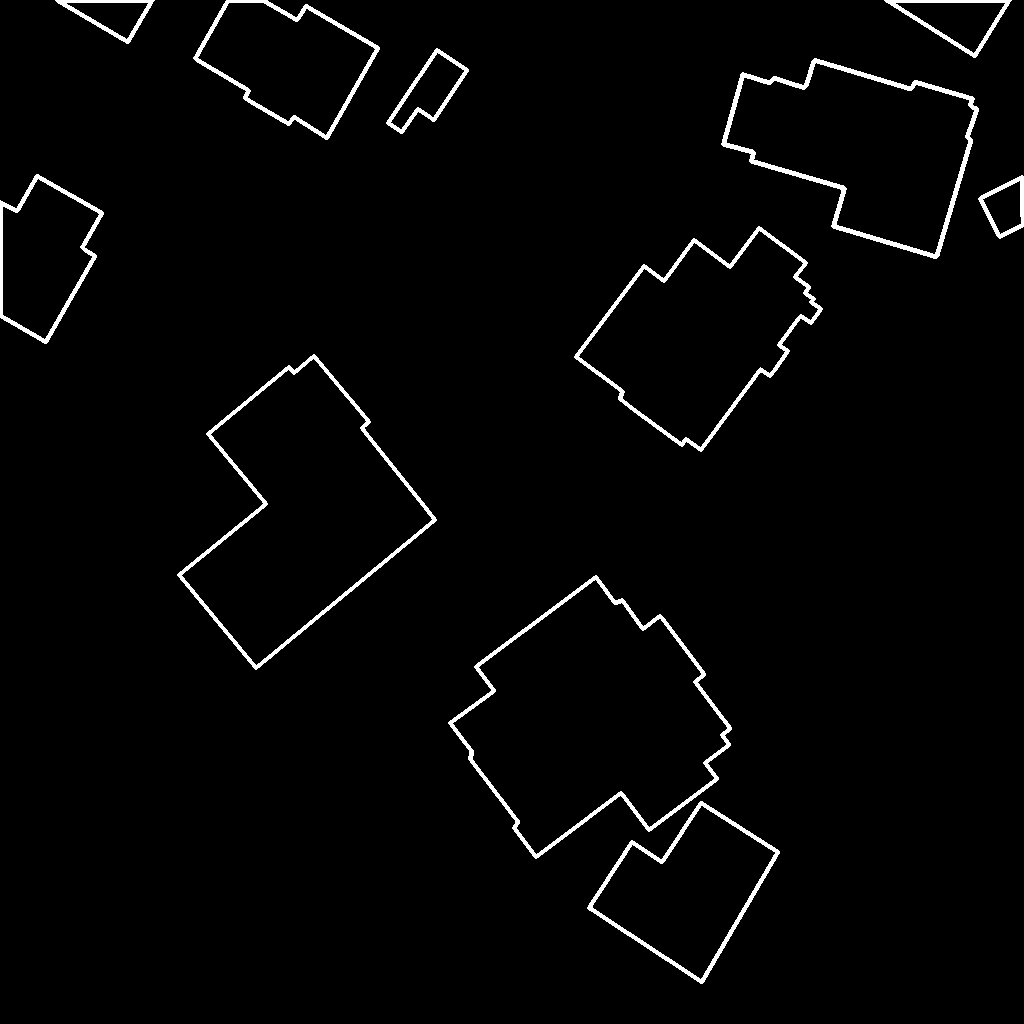building: (179, 356, 436, 669), (450, 577, 731, 858), (576, 228, 822, 451), (723, 60, 978, 258), (589, 803, 779, 983), (195, 0, 379, 139), (0, 176, 103, 343), (886, 0, 1011, 57), (388, 50, 468, 133), (56, 0, 154, 43), (980, 177, 1024, 238)
